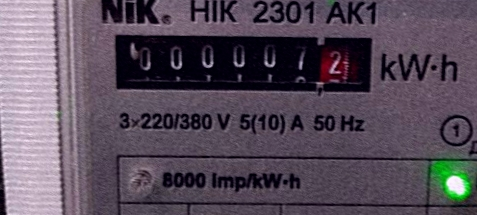0: (137, 44, 155, 72), (231, 42, 249, 69), (169, 43, 186, 71), (200, 42, 217, 70), (263, 42, 279, 71)
2: (328, 50, 345, 76)
7: (294, 42, 310, 73)
screen: (103, 22, 386, 105)
